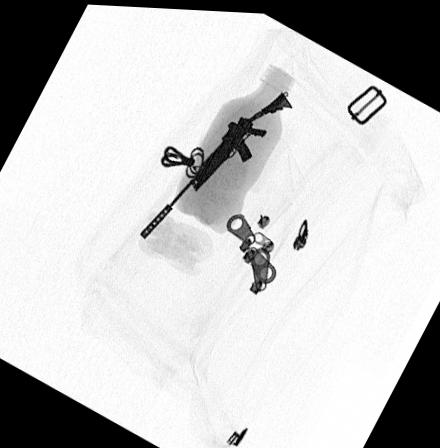Gun: (136, 87, 296, 241)
